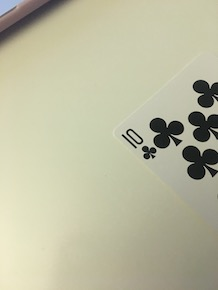TenOfClubs: (109, 49, 218, 232)
